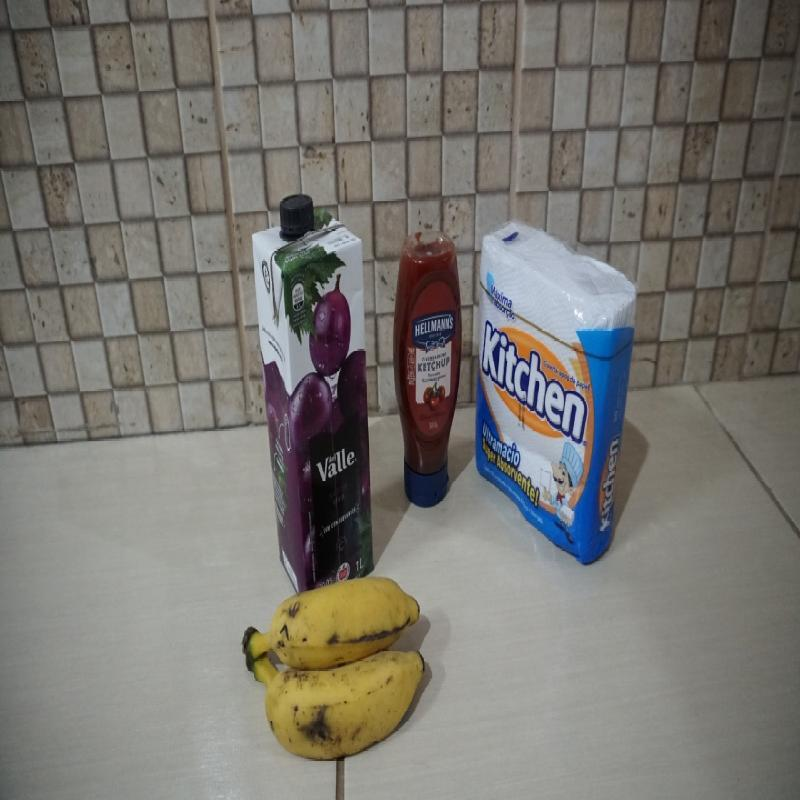Banana: (241, 575, 427, 762)
Ketchup: (393, 231, 461, 506)
Napkin: (476, 219, 639, 567)
